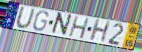2: (107, 22, 126, 47)
G: (32, 10, 50, 32)
H: (87, 18, 112, 43), (67, 16, 91, 40)
N: (49, 11, 73, 37)
U: (15, 6, 36, 30)
